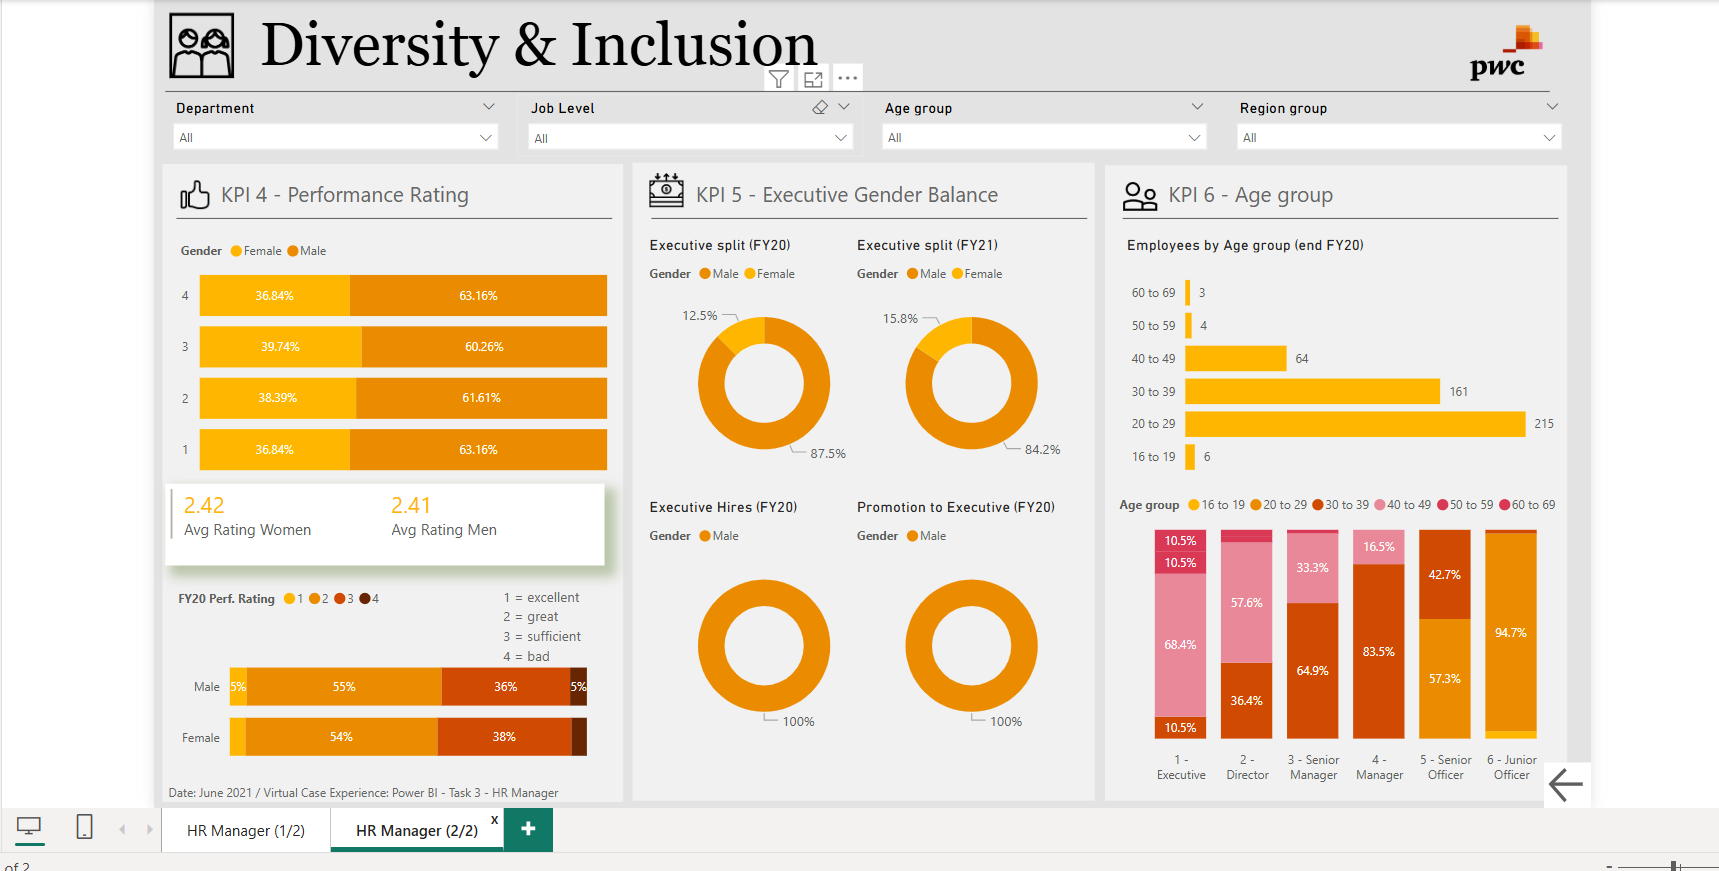

What the dashboard file says about the page in this screenshot:
{"tool":"powerbi","page":{"name":"HR Manager (2/2)","canvas":[1280,720],"ordinal":1},"visuals":[{"type":"basicShape","box":[3.9,139.9,418.6,579.7],"z":0},{"type":"slicer","fields":{"Values":["HR Manager.Job Level after FY20 promotions"]},"box":[322.5,83.9,310,55.9],"z":1000},{"type":"slicer","fields":{"Values":["HR Manager.Age group"]},"box":[638.2,83.9,310,55.9],"z":2000},{"type":"textbox","box":[88.7,4.8,1172.9,75.2],"z":3000},{"type":"basicShape","box":[0,60.8,1253,40.5],"z":4000},{"type":"basicShape","box":[422.2,139.6,420,579.7],"z":5000},{"type":"basicShape","box":[9.5,174.9,408,39.5],"z":6000},{"type":"textbox","box":[54.6,154.4,315.4,35.7],"z":7000},{"type":"multiRowCard","fields":{"Values":["HR Manager.Avg Rating Women","HR Manager.Avg Rating Men"]},"box":[10.1,431.1,390.9,72.6],"z":8000},{"type":"hundredPercentStackedBarChart","fields":{"Series":["HR Manager.FY20 Performance Rating"],"Category":["HR Manager.Gender"],"Y":["CountNonNull(HR Manager.Employee ID)"]},"box":[16.8,513.8,374.2,205.5],"z":9000},{"type":"image","box":[854.5,413.3,6.7,35.7],"z":10000},{"type":"image","box":[1129,0,151,94.5],"z":11000},{"type":"image","box":[8.7,0,67.5,81],"z":12000},{"type":"basicShape","box":[842.2,141.8,420,577.5],"z":13000},{"type":"image","box":[19,156.4,35.7,35.7],"z":14000},{"type":"slicer","fields":{"Values":["HR Manager.Last Department in FY20"]},"box":[6.8,83.9,310,55.9],"z":15000},{"type":"slicer","fields":{"Values":["HR Manager.Broad region group: nationality 1"]},"box":[954,83.9,310,55.9],"z":16000},{"type":"textbox","box":[477.9,154.4,315.4,35.7],"z":17000},{"type":"basicShape","box":[432.8,174.9,408,39.5],"z":18000},{"type":"textbox","box":[897.8,154.4,315.4,35.7],"z":19000},{"type":"basicShape","box":[852.7,174.9,408,39.5],"z":20000},{"type":"hundredPercentStackedBarChart","fields":{"Category":["HR Manager.FY20 Performance Rating"],"Series":["HR Manager.Gender"],"Y":["CountNonNull(HR Manager.Employee ID)"]},"box":[19,204.4,389.8,225.6],"z":21000},{"type":"textbox","box":[306,516,100.5,81.5],"z":22000},{"type":"donutChart","title":"Executive split (FY21)","fields":{"Category":["HR Manager.Gender"],"Y":["CountNonNull(HR Manager.Employee ID)"]},"box":[621.1,209.9,214.5,220],"z":23000},{"type":"donutChart","title":"Executive split (FY20)","fields":{"Category":["HR Manager.Gender"],"Y":["CountNonNull(HR Manager.Employee ID)"]},"box":[436.8,209.9,214.5,220],"z":24000},{"type":"donutChart","title":"Executive Hires (FY20)","fields":{"Category":["HR Manager.Gender"],"Y":["CountNonNull(HR Manager.Employee ID)"]},"box":[436.7,444.7,214.5,220],"z":25000},{"type":"donutChart","title":"Promotion to Executive (FY20)","fields":{"Category":["HR Manager.Gender"],"Y":["CountNonNull(HR Manager.Employee ID)"]},"box":[621,444.7,214.5,220],"z":26000},{"type":"image","box":[857.8,153,40.2,44.7],"z":27000},{"type":"clusteredBarChart","title":"Employees by Age group (end FY20)","fields":{"Category":["HR Manager.Age group"],"Y":["CountNonNull(HR Manager.Employee ID)"]},"box":[861.2,210,392,225.6],"z":28000},{"type":"hundredPercentStackedColumnChart","fields":{"Category":["HR Manager.Job Level after FY21 promotions"],"Series":["HR Manager.Age group"],"Y":["CountNonNull(HR Manager.Employee ID)"]},"box":[854.5,431.1,406.6,273.6],"z":29000},{"type":"image","box":[436.7,147.4,40.2,44.7],"z":30000},{"type":"actionButton","box":[1237.6,679.1,42.4,40.5],"z":31000},{"type":"textbox","box":[7.7,689.7,397.4,29.9],"z":32000}]}

Visuals, with their boxes on the page's 1280x720 design canvas (x1, y1, x2, y2). These are canvas units, not pixel positions in the 1719x871 screenshot, which may show the page scaled, cropped or inside an application window:
basicShape: bbox(4, 140, 422, 720)
slicer - HR Manager.Job Level after FY20 promotions: bbox(322, 84, 632, 140)
slicer - HR Manager.Age group: bbox(638, 84, 948, 140)
textbox: bbox(89, 5, 1262, 80)
basicShape: bbox(0, 61, 1253, 101)
basicShape: bbox(422, 140, 842, 719)
basicShape: bbox(10, 175, 418, 214)
textbox: bbox(55, 154, 370, 190)
multiRowCard - HR Manager.Avg Rating Women x HR Manager.Avg Rating Men: bbox(10, 431, 401, 504)
hundredPercentStackedBarChart - HR Manager.FY20 Performance Rating x HR Manager.Gender: bbox(17, 514, 391, 719)
image: bbox(854, 413, 861, 449)
image: bbox(1129, 0, 1280, 94)
image: bbox(9, 0, 76, 81)
basicShape: bbox(842, 142, 1262, 719)
image: bbox(19, 156, 55, 192)
slicer - HR Manager.Last Department in FY20: bbox(7, 84, 317, 140)
slicer - HR Manager.Broad region group: nationality 1: bbox(954, 84, 1264, 140)
textbox: bbox(478, 154, 793, 190)
basicShape: bbox(433, 175, 841, 214)
textbox: bbox(898, 154, 1213, 190)
basicShape: bbox(853, 175, 1261, 214)
hundredPercentStackedBarChart - HR Manager.FY20 Performance Rating x HR Manager.Gender: bbox(19, 204, 409, 430)
textbox: bbox(306, 516, 406, 598)
"Executive split (FY21)" donutChart: bbox(621, 210, 836, 430)
"Executive split (FY20)" donutChart: bbox(437, 210, 651, 430)
"Executive Hires (FY20)" donutChart: bbox(437, 445, 651, 665)
"Promotion to Executive (FY20)" donutChart: bbox(621, 445, 836, 665)
image: bbox(858, 153, 898, 198)
"Employees by Age group (end FY20)" clusteredBarChart: bbox(861, 210, 1253, 436)
hundredPercentStackedColumnChart - HR Manager.Job Level after FY21 promotions x HR Manager.Age group: bbox(854, 431, 1261, 705)
image: bbox(437, 147, 477, 192)
actionButton: bbox(1238, 679, 1280, 720)
textbox: bbox(8, 690, 405, 720)
